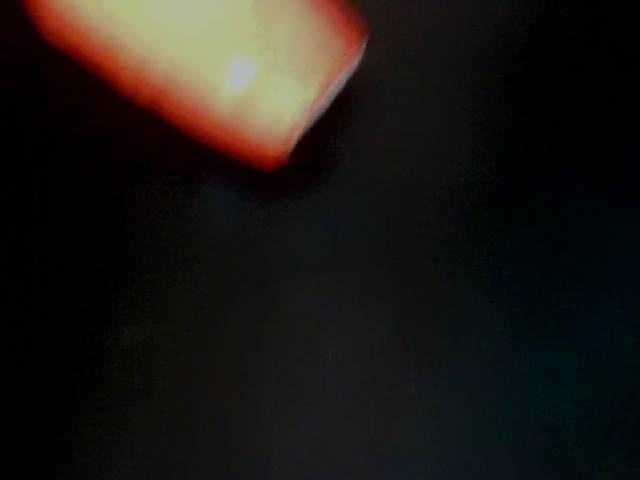YHLJ: (244, 170, 496, 292)
